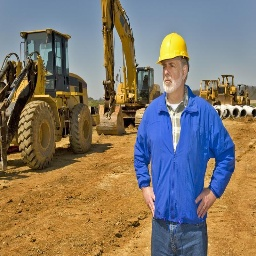helmet: (156, 30, 194, 68)
person: (130, 28, 221, 256)
vest: (140, 91, 221, 224)
